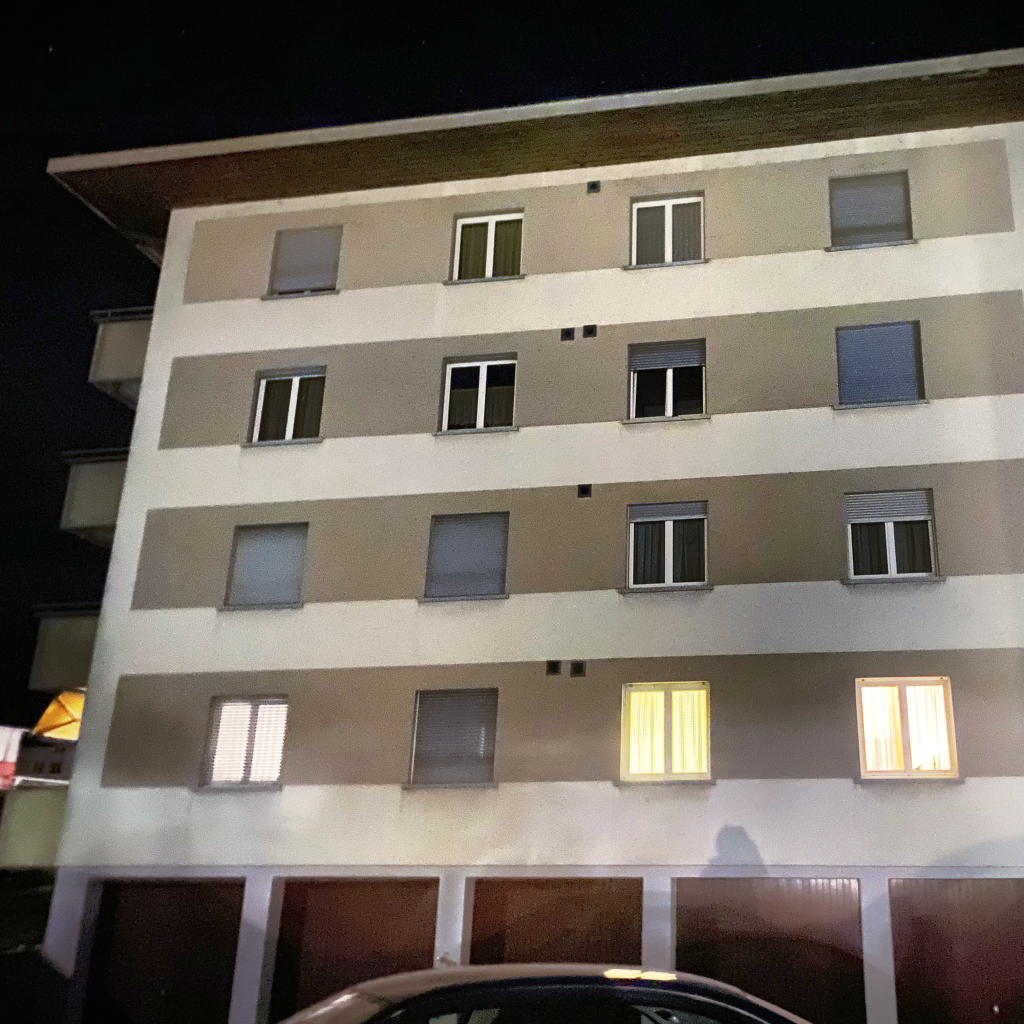glass_panel: (906, 683, 950, 770), (861, 687, 903, 771), (209, 701, 252, 782), (671, 689, 708, 773), (249, 703, 287, 782), (629, 690, 664, 774), (257, 377, 292, 440), (446, 366, 479, 429), (893, 520, 932, 573), (672, 519, 704, 582), (483, 364, 515, 426), (292, 376, 324, 438), (850, 523, 888, 575), (633, 521, 664, 584), (634, 205, 665, 264), (671, 202, 702, 260), (492, 218, 522, 276), (457, 223, 487, 279), (634, 369, 669, 417), (670, 365, 703, 414)
